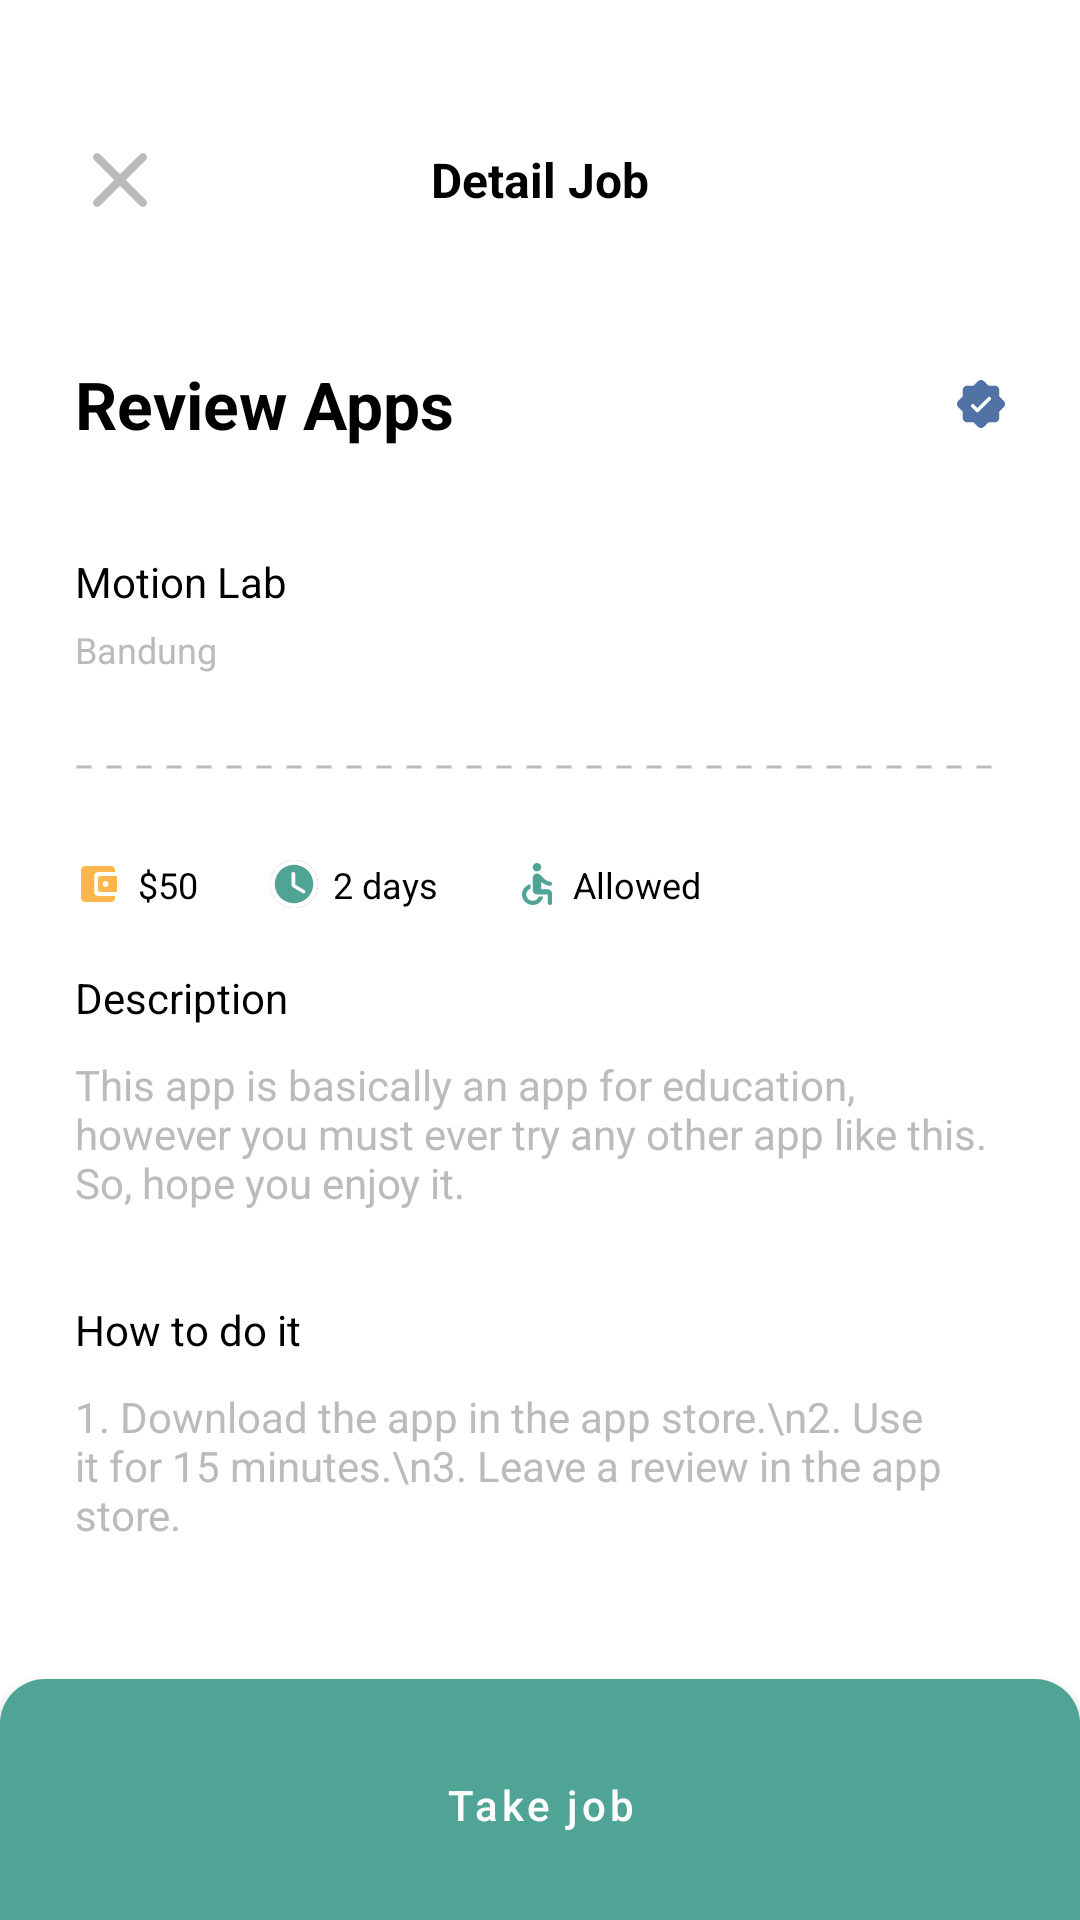

Icon bounding boxes for this 1080 × 1920 phone screenshot, format detection(x1, y1, x2, y2):
close: detection(93, 153, 147, 207)
verified: detection(957, 380, 1005, 428)
